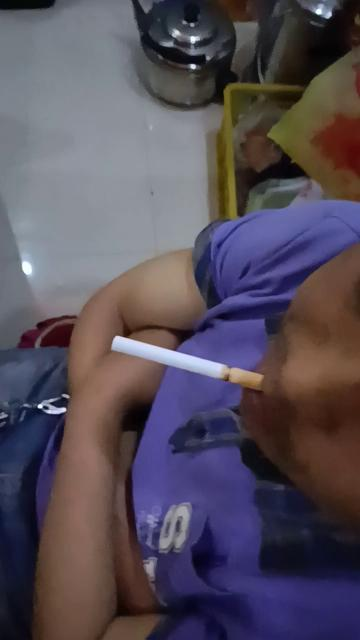Smoking: (111, 334, 267, 391)
